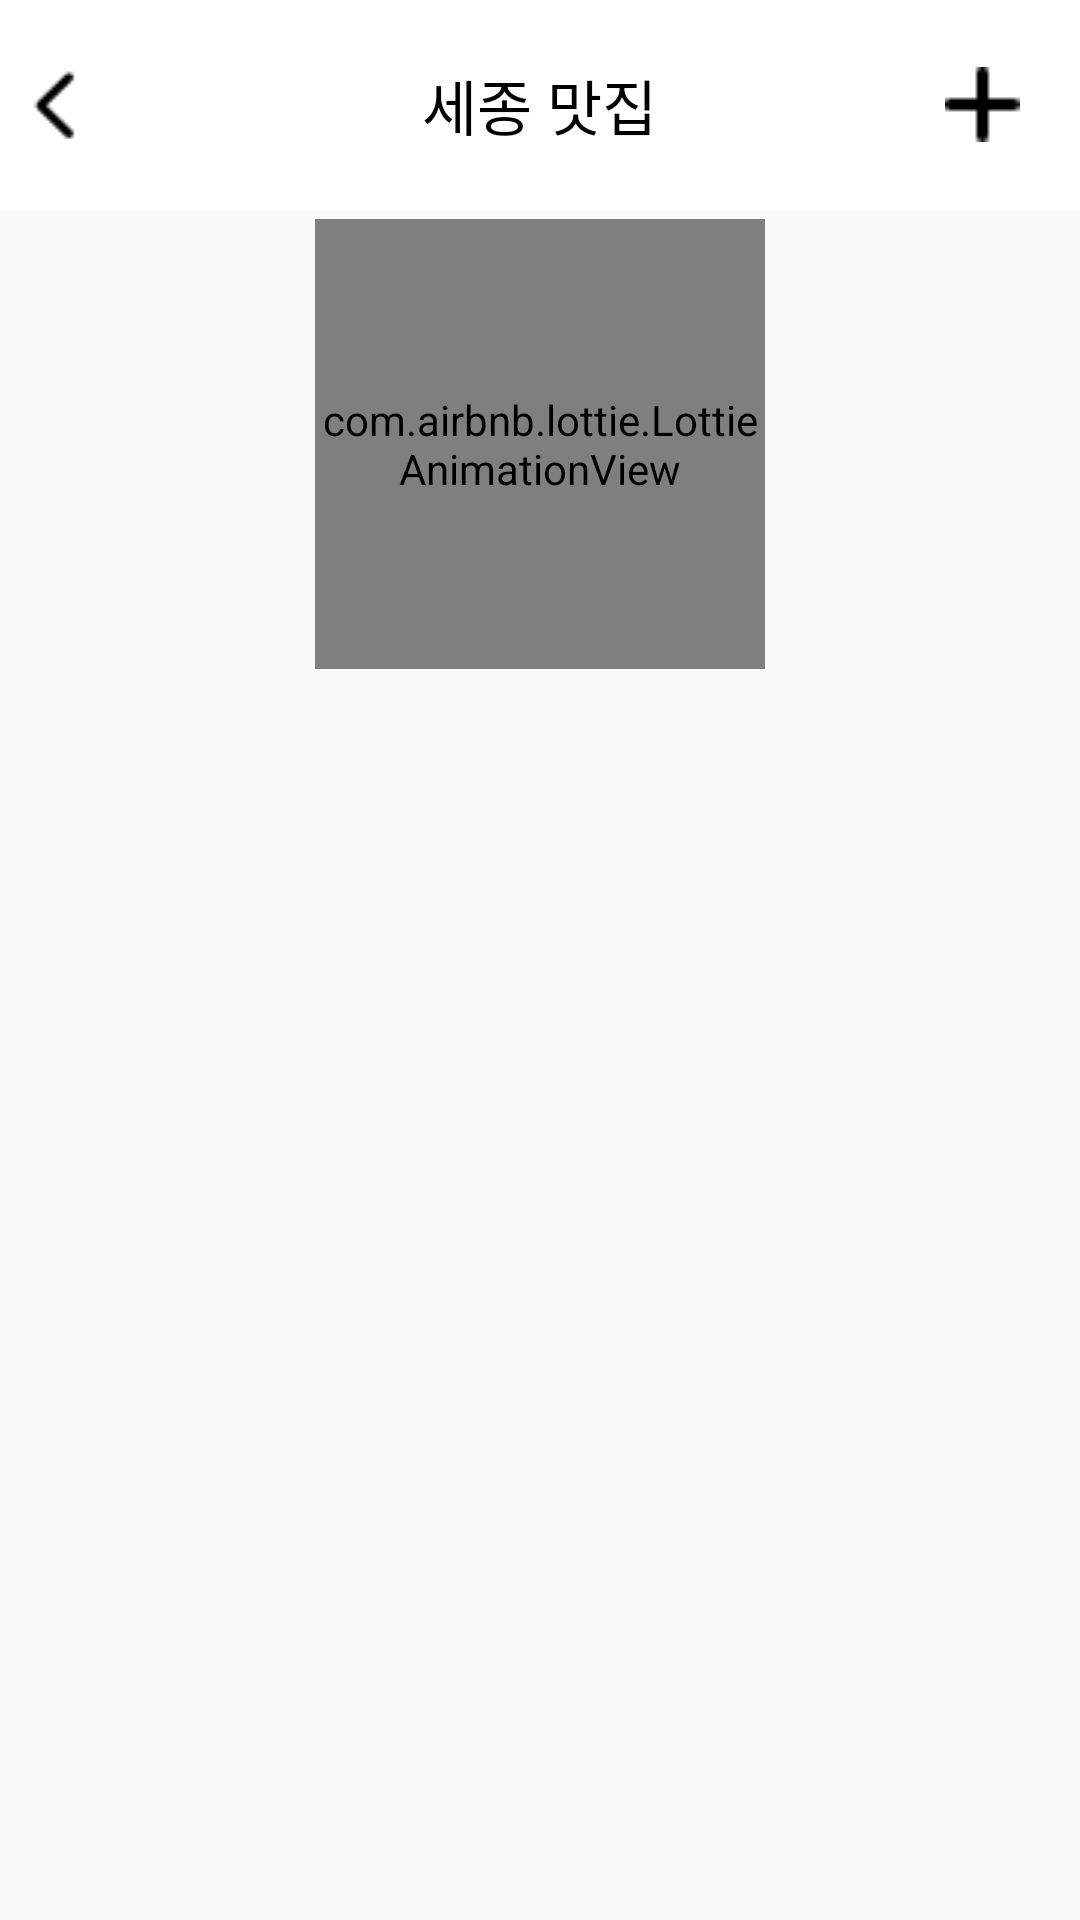

Named icons in this screenshot (1080px×1920px) and their centers, (x,y):
feather plus: (982,104)
leftbtn: (54,105)
